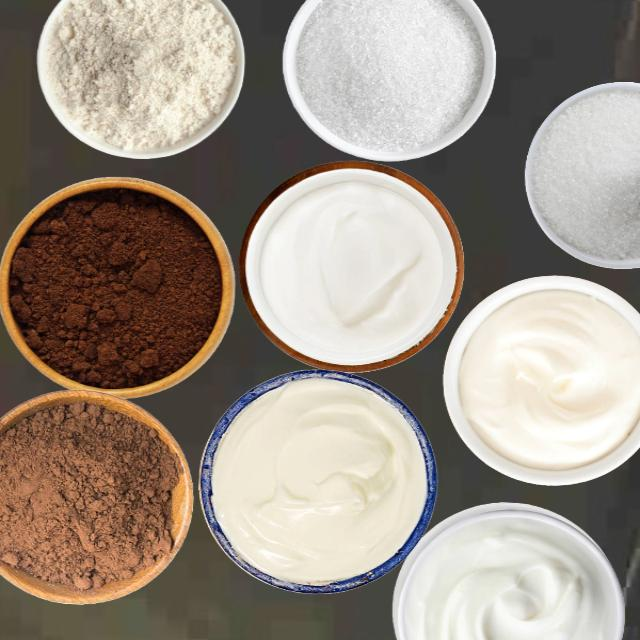Cocoa: (0, 392, 188, 603)
Coffee: (6, 184, 223, 389)
Flour: (44, 0, 236, 151)
Sugar: (294, 0, 483, 153), (529, 87, 639, 261)
